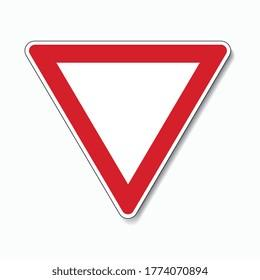Give Way: (18, 20, 247, 234)
